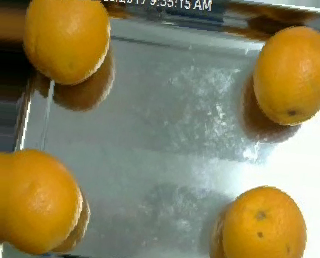Orange: (0, 148, 83, 252), (23, 1, 110, 85), (252, 25, 320, 127), (217, 183, 306, 258)
